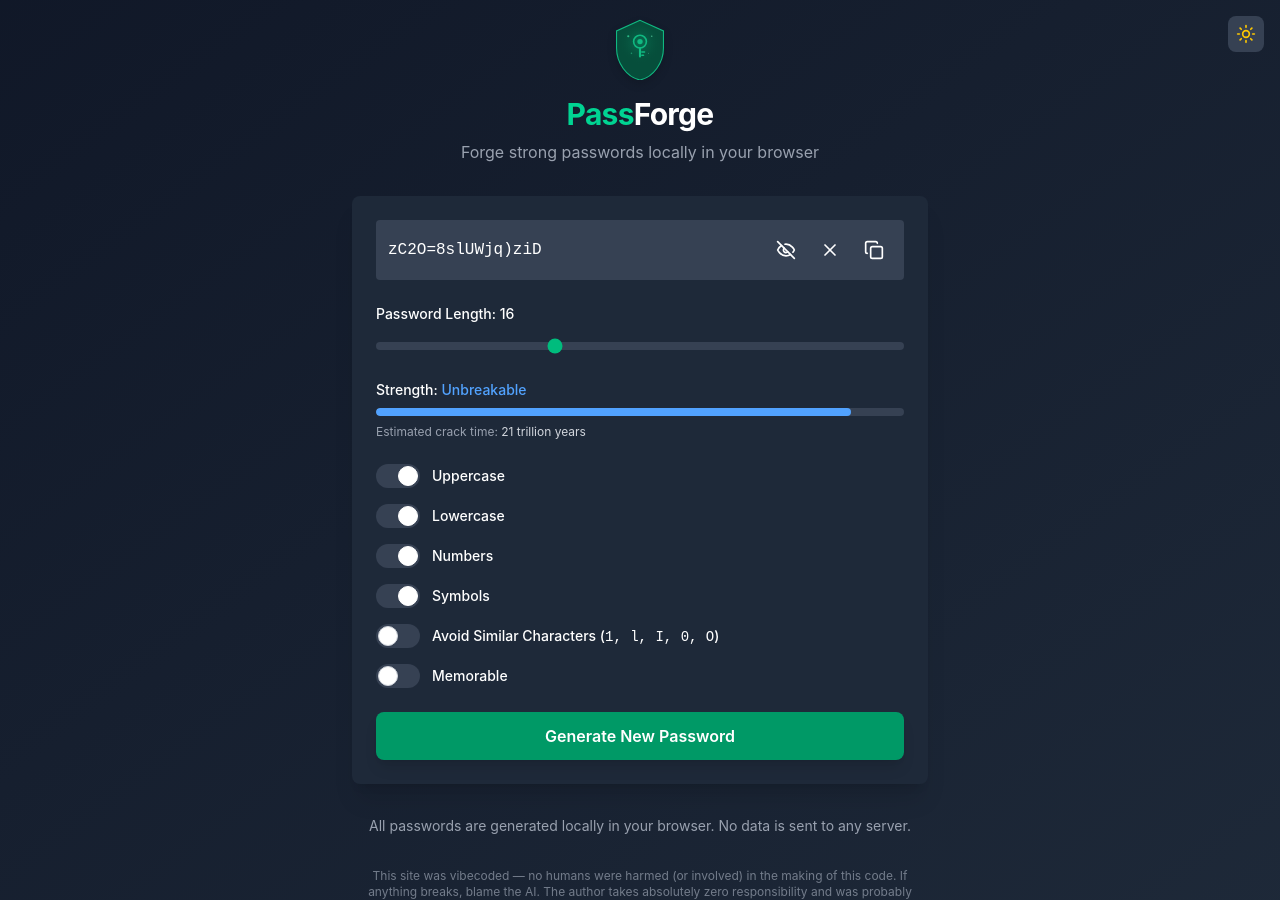
Test case: App component › clears active clipboard timers when clear button is clicked after copy
Step 1. Click the button titled "Copy to clipboard (Ctrl+C)" → point(874, 250), box top-left (856, 232), bottom-right (892, 268)
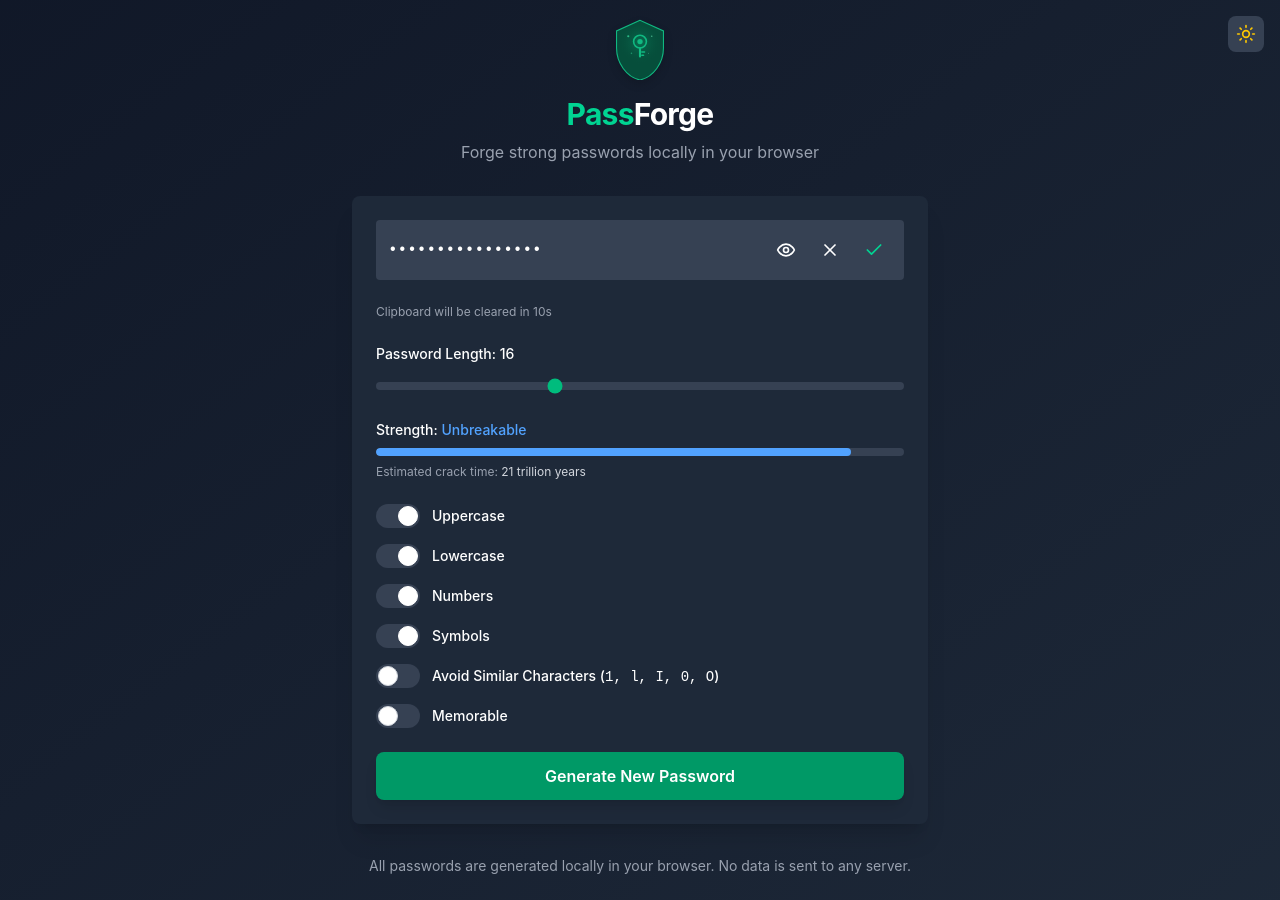
expect the text "Clipboard will be cleared in 10s" is shown: met, box top-left (376, 304), bottom-right (552, 319)
Step 2. Click the button titled "Clear password" → point(830, 250), box top-left (812, 232), bottom-right (848, 268)
Wait 30000 ms
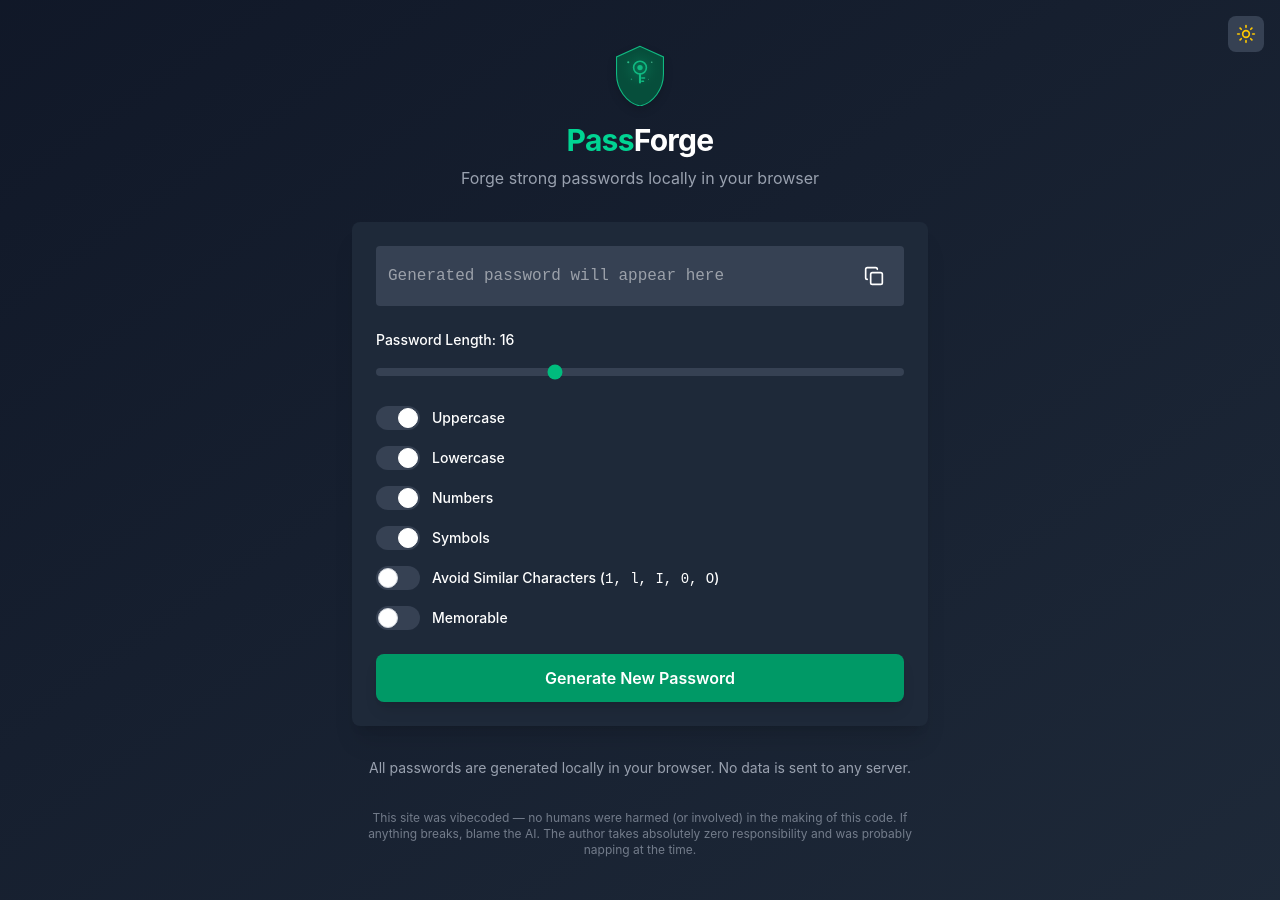
expect the text "Clipboard will be cleared in" is gone: met
